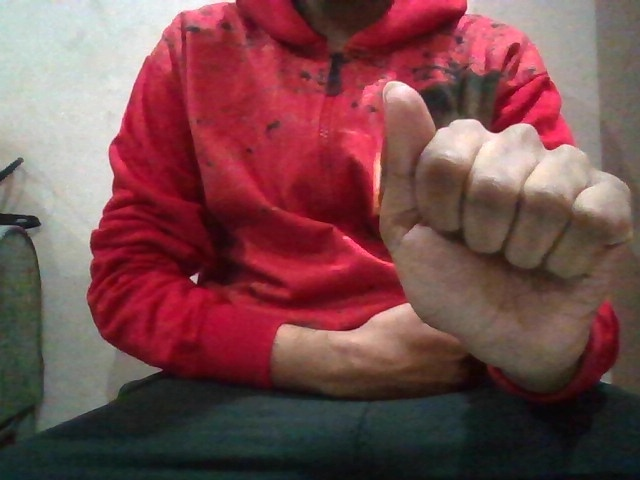A: (367, 73, 638, 400)
